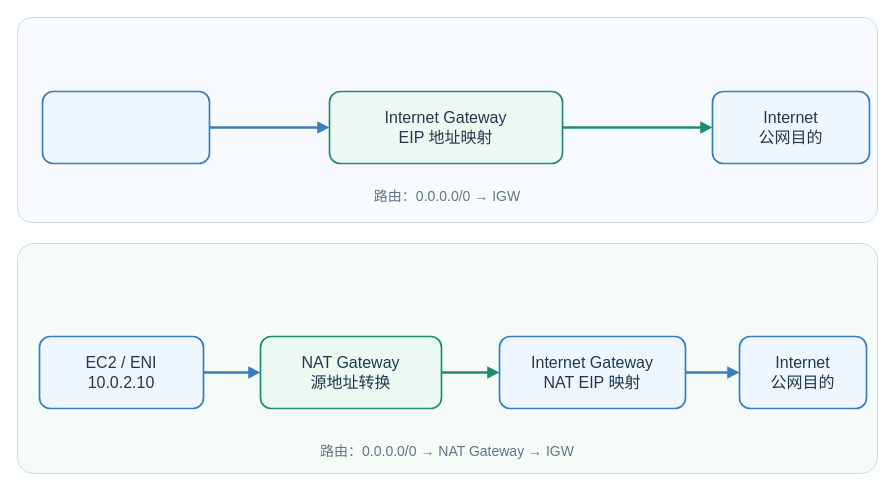
The diagram is 895 pixels wide and 491 high, and some of its shapes have lost their labels. Each missing label, with the box of its shape:
EC2 / ENI 10.0.1.10: (41, 90, 210, 164)
PRIVATE SUBNET: (16, 242, 878, 474)
PUBLIC SUBNET: (16, 16, 878, 222)
